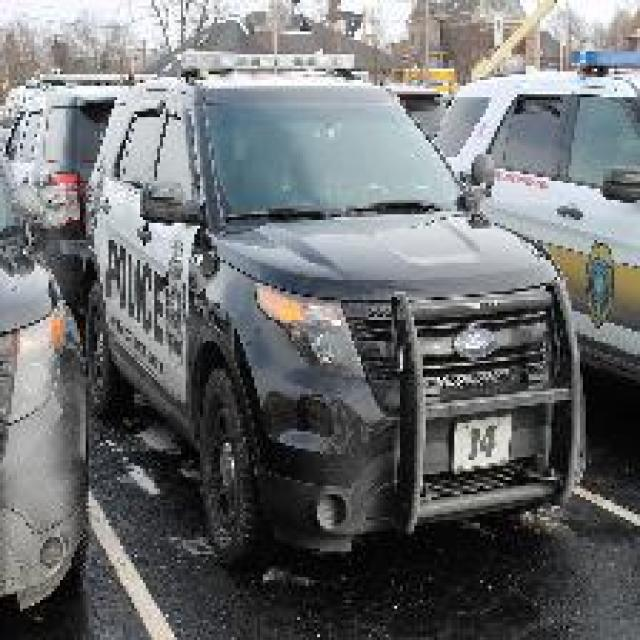Car: (0, 103, 89, 628)
Police-car: (83, 49, 588, 568)
